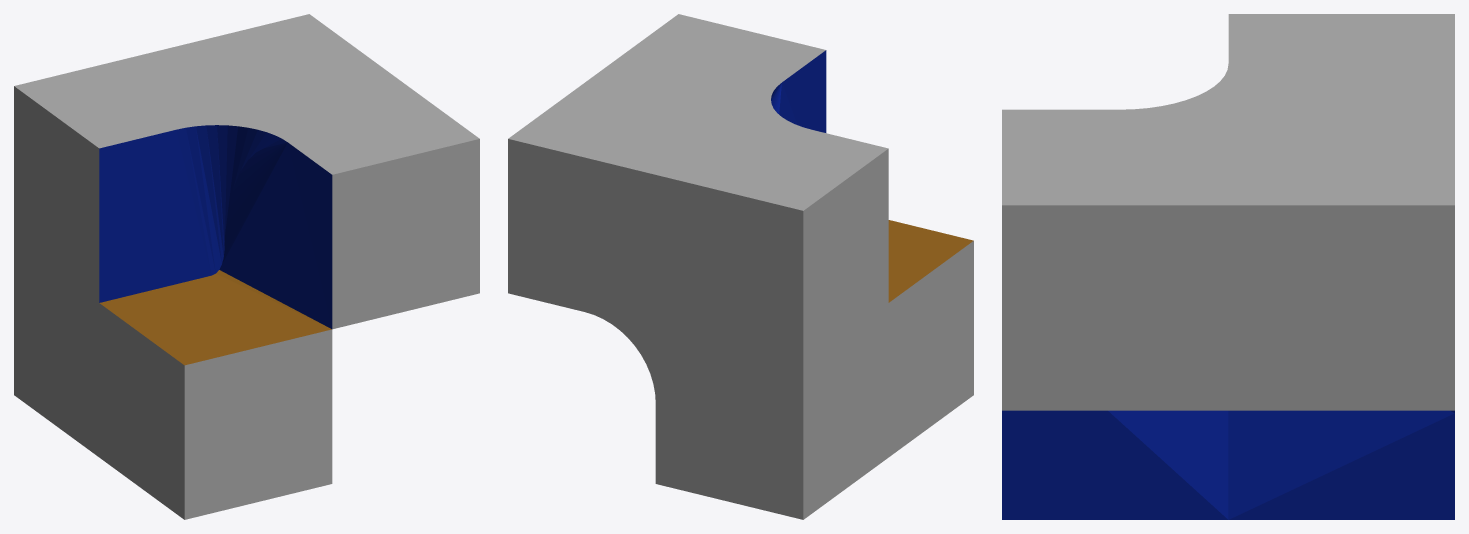
Rendered from case_121.fbx.
3 renders of one model, left to right at view 1: azimuth 30°, elevation 25°; view 2: azimuth 150°, elevation 25°; view 3: azimuth 270°, elevation 25°, orthographic. The views are drawn at different scales.
Parts seen in each view (by area): view 1: case_121; view 2: case_121; view 3: case_121.
Part boxes in pixels (x1,y1,x2,y2): case_121: [14, 14, 479, 519]; case_121: [508, 14, 973, 519]; case_121: [1002, 14, 1454, 519].
Bounding box in the file's own units: 1 × 1 × 1.
